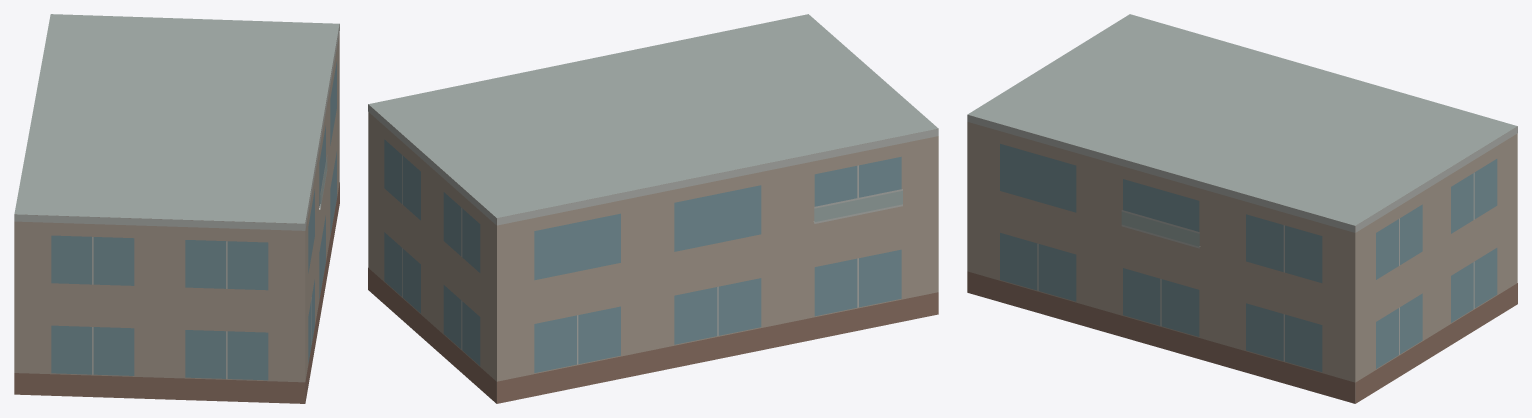
File: survey-upis-32704755.glb
The picture shows the model from 3 angles, left to right: view 1: azimuth 30°, elevation 25°; view 2: azimuth 150°, elevation 25°; view 3: azimuth 270°, elevation 25°; orthographic projection. The views are drawn at different scales.
Parts seen in each view (by area): view 1: survey-upis-32704755.tmp; view 2: survey-upis-32704755.tmp; view 3: survey-upis-32704755.tmp.
Part boxes in pixels (box(x1,y1,x2,y2)): survey-upis-32704755.tmp: box(14, 14, 339, 403); survey-upis-32704755.tmp: box(368, 14, 938, 403); survey-upis-32704755.tmp: box(967, 14, 1517, 403).
Size of the model in its own units: 15.58 by 6.1 by 17.1.
